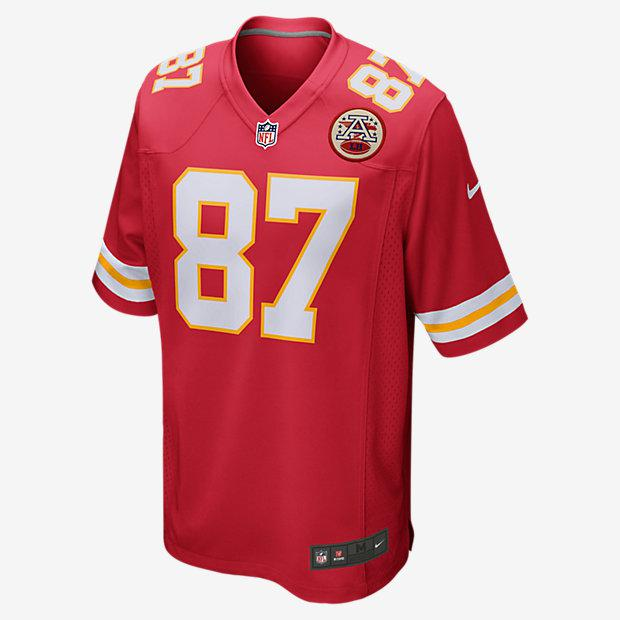teeshirt: (83, 3, 531, 620)
